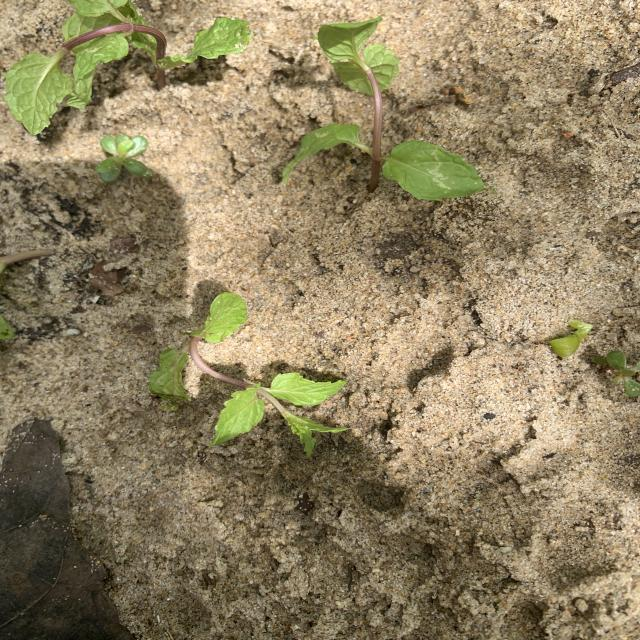crop: (283, 17, 483, 201), (4, 0, 252, 135), (149, 293, 349, 456)
weed: (95, 134, 152, 183), (590, 350, 640, 398), (548, 320, 592, 359)
